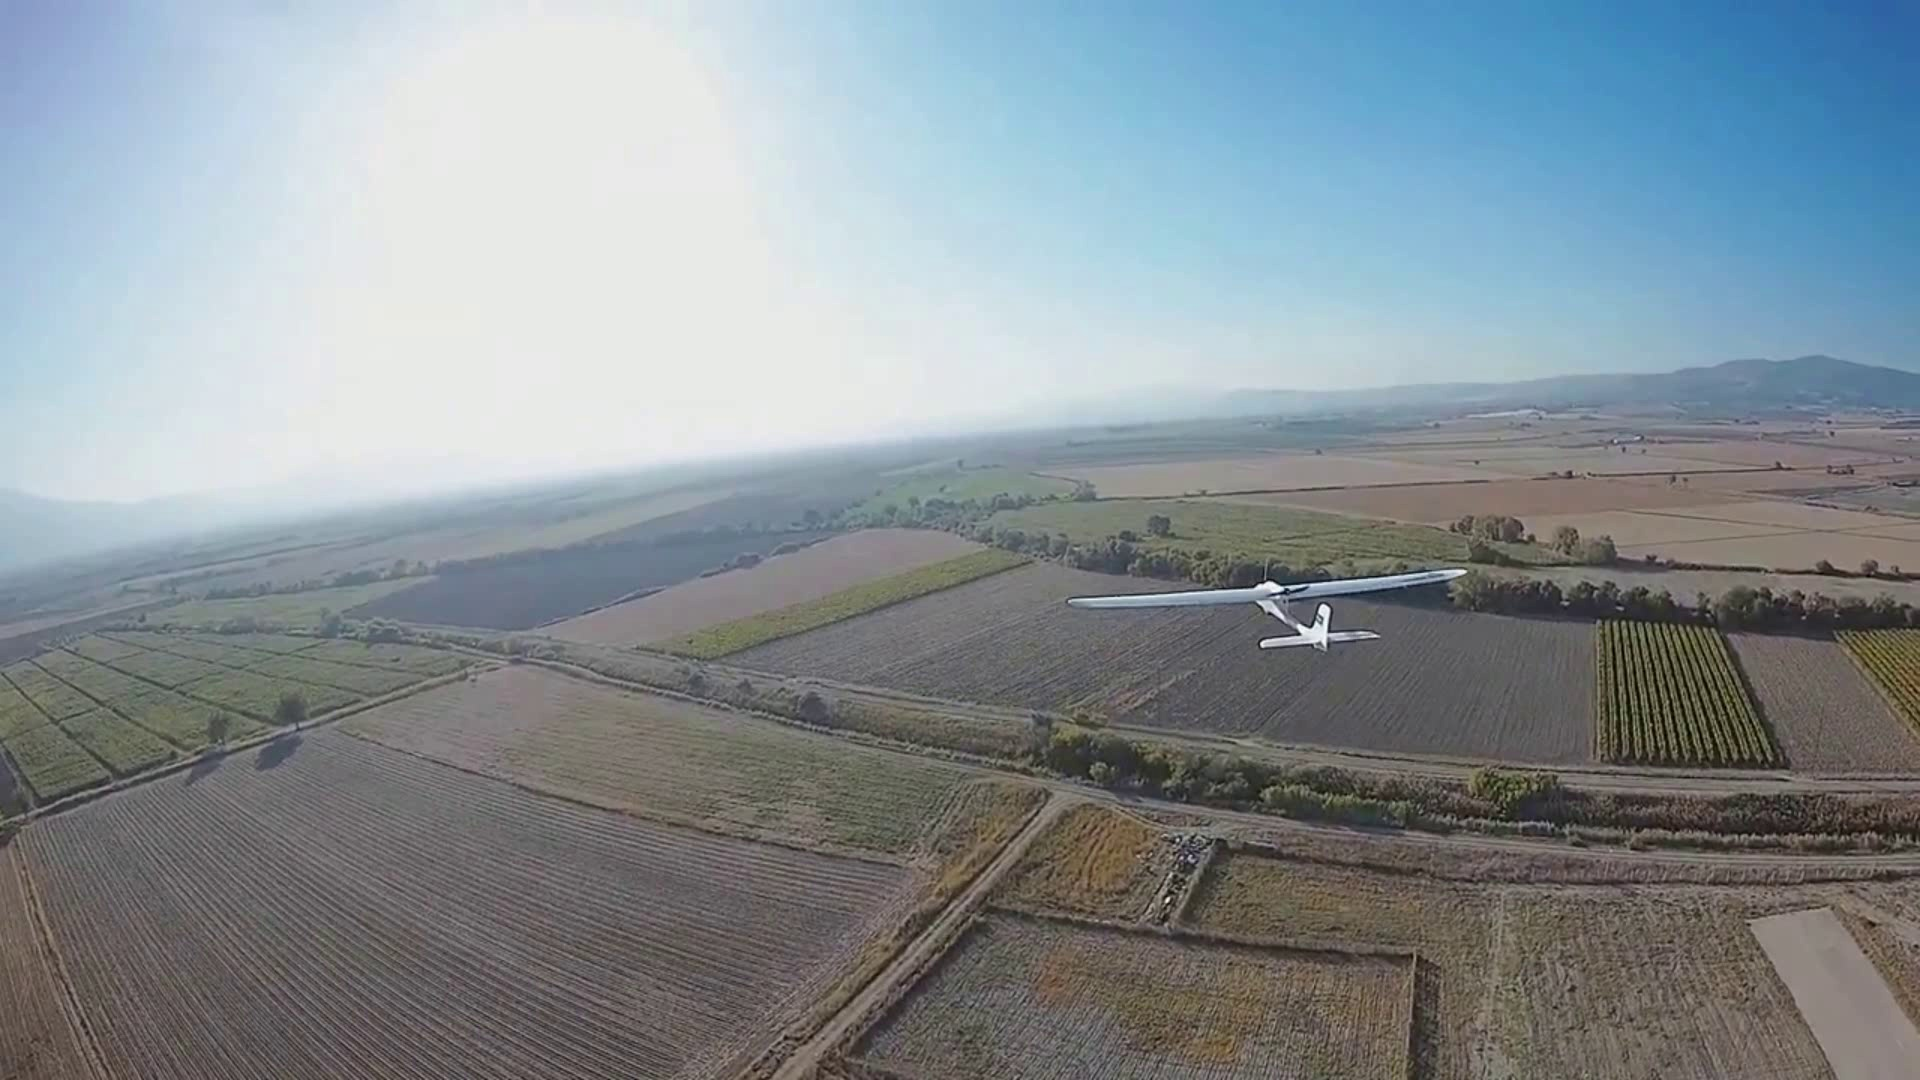airplane: (1064, 563, 1464, 650)
